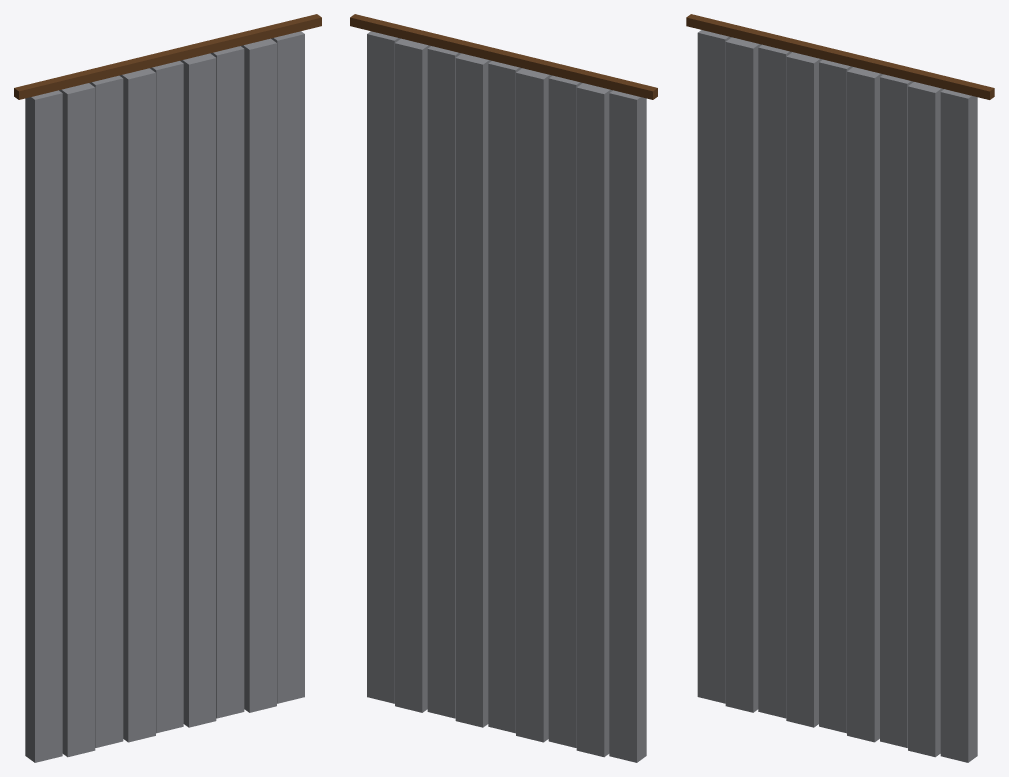
File: curtain.obj
3 renders of one model, left to right at view 1: azimuth 30°, elevation 25°; view 2: azimuth 150°, elevation 25°; view 3: azimuth 330°, elevation 25°, orthographic.
Visible parts, largest first — view 1: curtain_0, curtain_1, curtain_5, curtain_3, curtain_7, curtain_6, curtain_2, curtain_8, curtain_4, curtain_9; view 2: curtain_0, curtain_1, curtain_5, curtain_3, curtain_7, curtain_6, curtain_2, curtain_8, curtain_4, curtain_9; view 3: curtain_8, curtain_1, curtain_3, curtain_5, curtain_7, curtain_0, curtain_2, curtain_4, curtain_6, curtain_9.
Boxes of the visible parts, left/top/right/bottom form: curtain_0: left=25, top=90, right=62, bottom=762; curtain_1: left=59, top=83, right=95, bottom=757; curtain_5: left=180, top=53, right=216, bottom=727; curtain_3: left=119, top=68, right=155, bottom=742; curtain_7: left=241, top=38, right=276, bottom=712; curtain_6: left=210, top=46, right=244, bottom=718; curtain_2: left=89, top=75, right=123, bottom=747; curtain_8: left=271, top=31, right=304, bottom=703; curtain_4: left=150, top=61, right=183, bottom=733; curtain_9: left=14, top=14, right=321, bottom=99; curtain_0: left=609, top=90, right=646, bottom=762; curtain_1: left=576, top=83, right=612, bottom=757; curtain_5: left=455, top=53, right=491, bottom=727; curtain_3: left=516, top=68, right=552, bottom=742; curtain_7: left=395, top=38, right=430, bottom=712; curtain_6: left=427, top=46, right=461, bottom=718; curtain_2: left=548, top=75, right=582, bottom=747; curtain_8: left=367, top=31, right=400, bottom=703; curtain_4: left=488, top=61, right=521, bottom=733; curtain_9: left=350, top=14, right=657, bottom=99; curtain_8: left=940, top=89, right=977, bottom=762; curtain_1: left=725, top=37, right=761, bottom=712; curtain_3: left=786, top=52, right=822, bottom=727; curtain_5: left=847, top=67, right=883, bottom=742; curtain_7: left=908, top=82, right=943, bottom=757; curtain_0: left=697, top=30, right=731, bottom=703; curtain_2: left=758, top=44, right=792, bottom=718; curtain_4: left=819, top=59, right=852, bottom=733; curtain_6: left=880, top=74, right=913, bottom=747; curtain_9: left=686, top=14, right=994, bottom=99.
Bounding box in the file's own units: 1.1 × 2.33 × 0.09.
